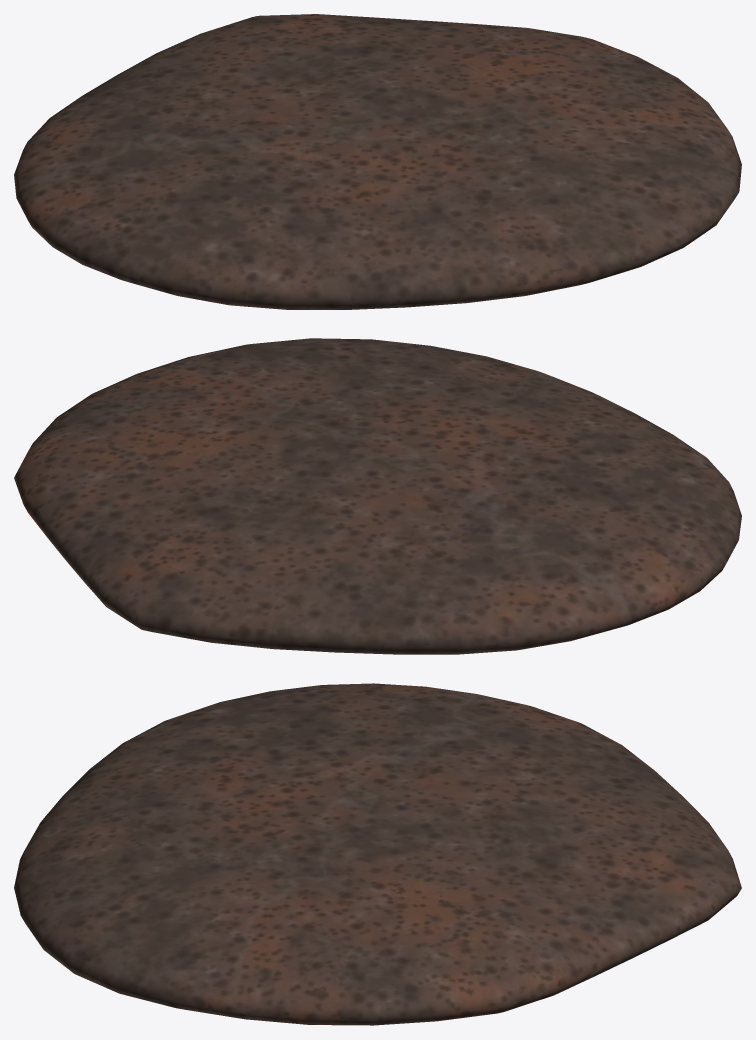
File: heavy_basalt_06.glb
3 views of the same model, one above another, from view 1: azimuth 30°, elevation 25°; view 2: azimuth 150°, elevation 25°; view 3: azimuth 270°, elevation 25° (orthographic). The views are drawn at different scales.
Parts seen in each view (by area): view 1: heavy_basalt_06; view 2: heavy_basalt_06; view 3: heavy_basalt_06.
Boxes of the visible parts, x1=… form: heavy_basalt_06: x1=14, y1=14, x2=741, y2=309; heavy_basalt_06: x1=14, y1=338, x2=741, y2=654; heavy_basalt_06: x1=14, y1=683, x2=741, y2=1025.
Size of the model in its own units: 0.0892 by 0.0114 by 0.0839.
1 material, 1 textured.
